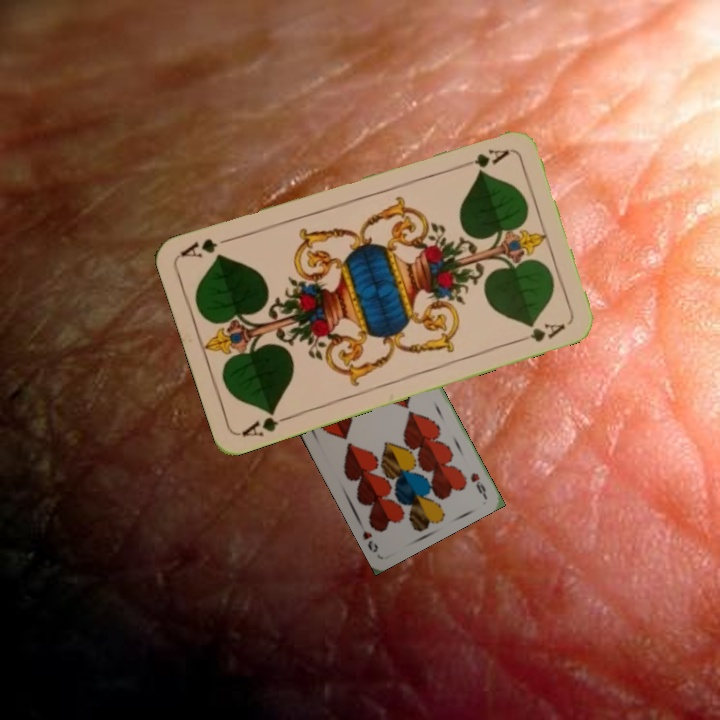GA: (237, 405, 295, 439), (454, 145, 513, 172)
H9: (466, 468, 488, 498)
